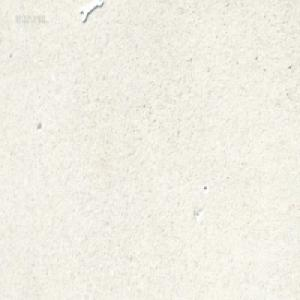Wrench: (80, 0, 103, 23)
